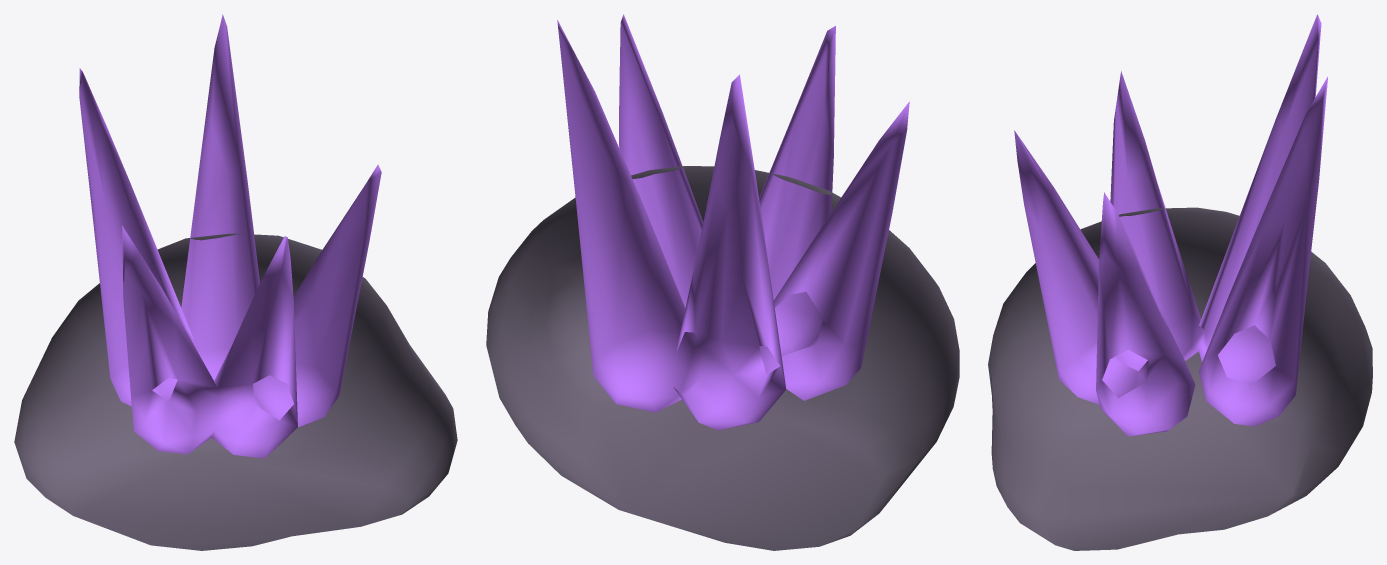
File: lm_crystal.glb
3 renders of one model, left to right at view 1: azimuth 30°, elevation 25°; view 2: azimuth 150°, elevation 25°; view 3: azimuth 270°, elevation 25°, orthographic. The views are drawn at different scales.
Visible parts, largest first — view 1: body; view 2: body; view 3: body.
Boxes of the visible parts, <box> form: body: <box>14,14,457,550</box>; body: <box>486,14,959,550</box>; body: <box>988,14,1372,550</box>.
Bounding box in the file's own units: 1.94 × 2.18 × 1.73.
Materials: 1 (1 with a texture image).
